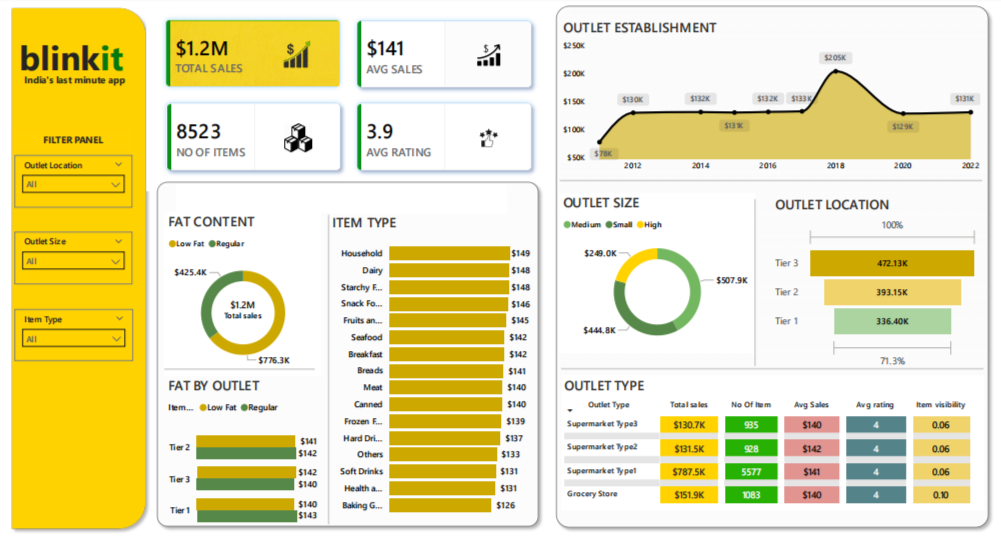

The page's visual inventory and layout, read from the dashboard file:
{"tool":"powerbi","page":{"name":"Page 1","canvas":[1400,800],"ordinal":0},"visuals":[{"type":"shape","box":[8.3,1.7,205,750],"z":0},{"type":"textbox","box":[22,42.4,157.6,74.6],"z":1000},{"type":"textbox","box":[30,97.7,156.9,30],"z":2000},{"type":"cardVisual","fields":{"Data":["BlinkIT Grocery Data.Total sales","BlinkIT Grocery Data.Avg Sales","BlinkIT Grocery Data.no of item","BlinkIT Grocery Data.Avg rating"]},"box":[205.7,0,569.8,269.4],"z":3000},{"type":"shape","box":[213.3,248.3,553.3,501.7],"z":4000},{"type":"donutChart","title":"FAT CONTENT","fields":{"Y":["BlinkIT Grocery Data.Total sales"],"Category":["BlinkIT Grocery Data.Item Fat Content"]},"box":[231.5,299.2,220,230],"z":5000},{"type":"slicer","box":[248.5,259.2,464.6,40],"z":6000},{"type":"cardVisual","fields":{"Data":["BlinkIT Grocery Data.Total sales"]},"box":[282,400,120,70],"z":7000},{"type":"clusteredBarChart","title":"FAT BY OUTLET","fields":{"Y":["BlinkIT Grocery Data.Avg Sales"],"Category":["BlinkIT Grocery Data.Outlet Location Type"],"Series":["BlinkIT Grocery Data.Item Fat Content"]},"box":[232,529,220,230],"z":8000},{"type":"shape","box":[231.2,385,211.2,268.8],"z":9000},{"type":"shape","box":[356.7,301.7,211.7,436.7],"z":10000},{"type":"barChart","title":"ITEM TYPE","fields":{"Y":["BlinkIT Grocery Data.Avg Sales"],"Category":["BlinkIT Grocery Data.Item Type"]},"box":[463.3,300,288.3,435],"z":11000},{"type":"shape","box":[774.5,0,625.5,750.9],"z":12000},{"type":"lineChart","title":"OUTLET ESTABLISHMENT","fields":{"Category":["BlinkIT Grocery Data.Outlet Establishment Year"],"Y":["BlinkIT Grocery Data.Total sales"]},"box":[789.1,25.5,594.5,223.6],"z":13000},{"type":"shape","box":[788.3,120,595,268.3],"z":14000},{"type":"donutChart","title":"OUTLET SIZE","fields":{"Category":["BlinkIT Grocery Data.Outlet Size"],"Y":["BlinkIT Grocery Data.Total sales"]},"box":[788.3,271.7,275,225],"z":15000},{"type":"shape","box":[958.3,280,210,235],"z":16000},{"type":"funnel","title":"OUTLET LOCATION","fields":{"Category":["BlinkIT Grocery Data.Outlet Location Type"],"Y":["Sum(BlinkIT Grocery Data.Sales)"]},"box":[1086.7,275,295,248.3],"z":17000},{"type":"shape","box":[790,385,595,268.3],"z":18000},{"type":"pivotTable","title":"OUTLET TYPE","fields":{"Rows":["BlinkIT Grocery Data.Outlet Type"],"Values":["BlinkIT Grocery Data.Total sales","BlinkIT Grocery Data.no of item","BlinkIT Grocery Data.Avg Sales","BlinkIT Grocery Data.Avg rating","Avg(BlinkIT Grocery Data.Item Visibility)"]},"box":[790,529,595,189],"z":19000},{"type":"slicer","fields":{"Values":["BlinkIT Grocery Data.Outlet Location Type"]},"box":[20,218,166,74],"z":20000},{"type":"slicer","fields":{"Values":["BlinkIT Grocery Data.Outlet Size"]},"box":[20,326,166,74],"z":21000},{"type":"slicer","fields":{"Values":["BlinkIT Grocery Data.Item Type"]},"box":[20,435,166.7,73.3],"z":22000},{"type":"textbox","box":[20,183,166,27],"z":23000}]}

Visuals, with their boxes on the page's 1400x800 design canvas (x1, y1, x2, y2). These are canvas units, not pixel positions in the 1001x537 screenshot, which may show the page scaled, cropped or inside an application window:
shape: BBox(8, 2, 213, 752)
textbox: BBox(22, 42, 180, 117)
textbox: BBox(30, 98, 187, 128)
cardVisual - BlinkIT Grocery Data.Total sales x BlinkIT Grocery Data.Avg Sales: BBox(206, 0, 776, 269)
shape: BBox(213, 248, 767, 750)
"FAT CONTENT" donutChart: BBox(232, 299, 452, 529)
slicer: BBox(248, 259, 713, 299)
cardVisual - BlinkIT Grocery Data.Total sales: BBox(282, 400, 402, 470)
"FAT BY OUTLET" clusteredBarChart: BBox(232, 529, 452, 759)
shape: BBox(231, 385, 442, 654)
shape: BBox(357, 302, 568, 738)
"ITEM TYPE" barChart: BBox(463, 300, 752, 735)
shape: BBox(774, 0, 1400, 751)
"OUTLET ESTABLISHMENT" lineChart: BBox(789, 26, 1384, 249)
shape: BBox(788, 120, 1383, 388)
"OUTLET SIZE" donutChart: BBox(788, 272, 1063, 497)
shape: BBox(958, 280, 1168, 515)
"OUTLET LOCATION" funnel: BBox(1087, 275, 1382, 523)
shape: BBox(790, 385, 1385, 653)
"OUTLET TYPE" pivotTable: BBox(790, 529, 1385, 718)
slicer - BlinkIT Grocery Data.Outlet Location Type: BBox(20, 218, 186, 292)
slicer - BlinkIT Grocery Data.Outlet Size: BBox(20, 326, 186, 400)
slicer - BlinkIT Grocery Data.Item Type: BBox(20, 435, 187, 508)
textbox: BBox(20, 183, 186, 210)
